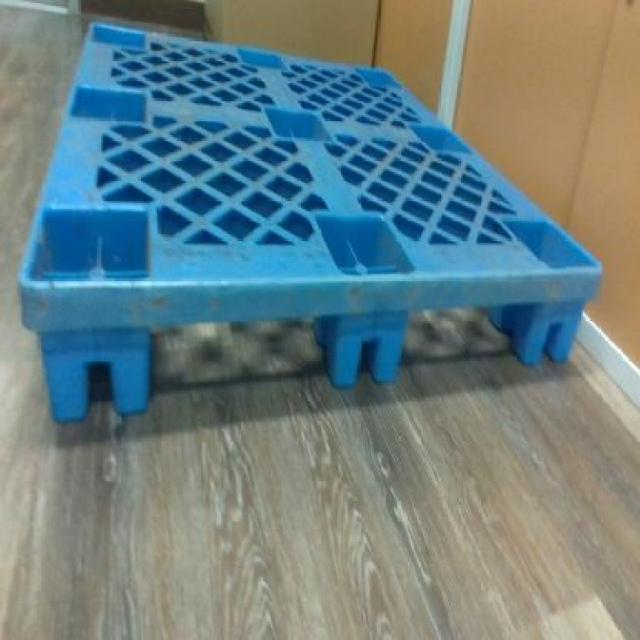block: (35, 334, 166, 422), (331, 313, 412, 388), (524, 298, 584, 366)
front: (17, 268, 616, 428)
